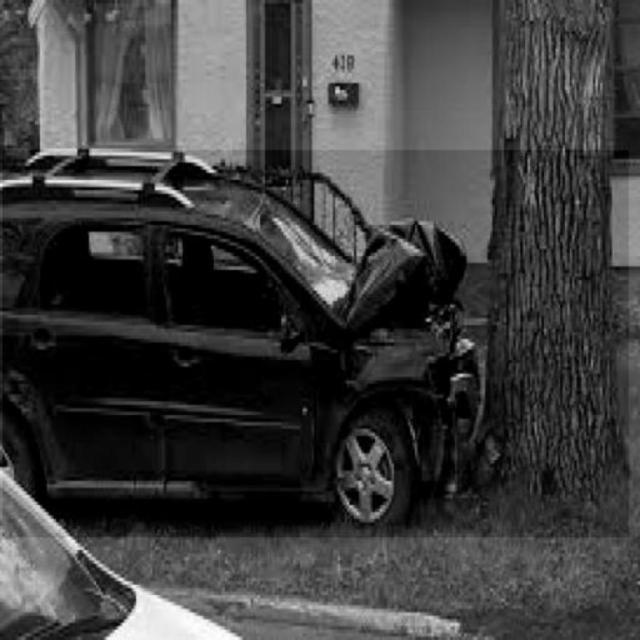accident: (3, 150, 629, 537)
